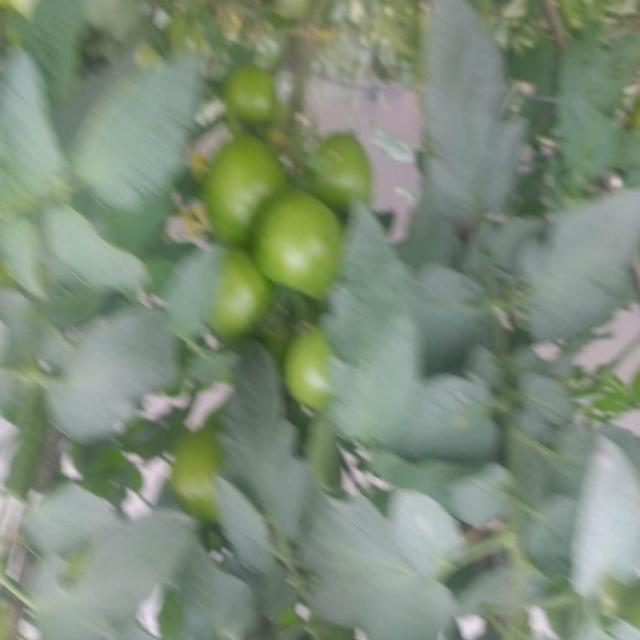tomato: (194, 135, 306, 258), (250, 191, 349, 310), (303, 119, 382, 221), (208, 256, 284, 344), (284, 326, 346, 409), (226, 61, 292, 136), (172, 433, 221, 529)
